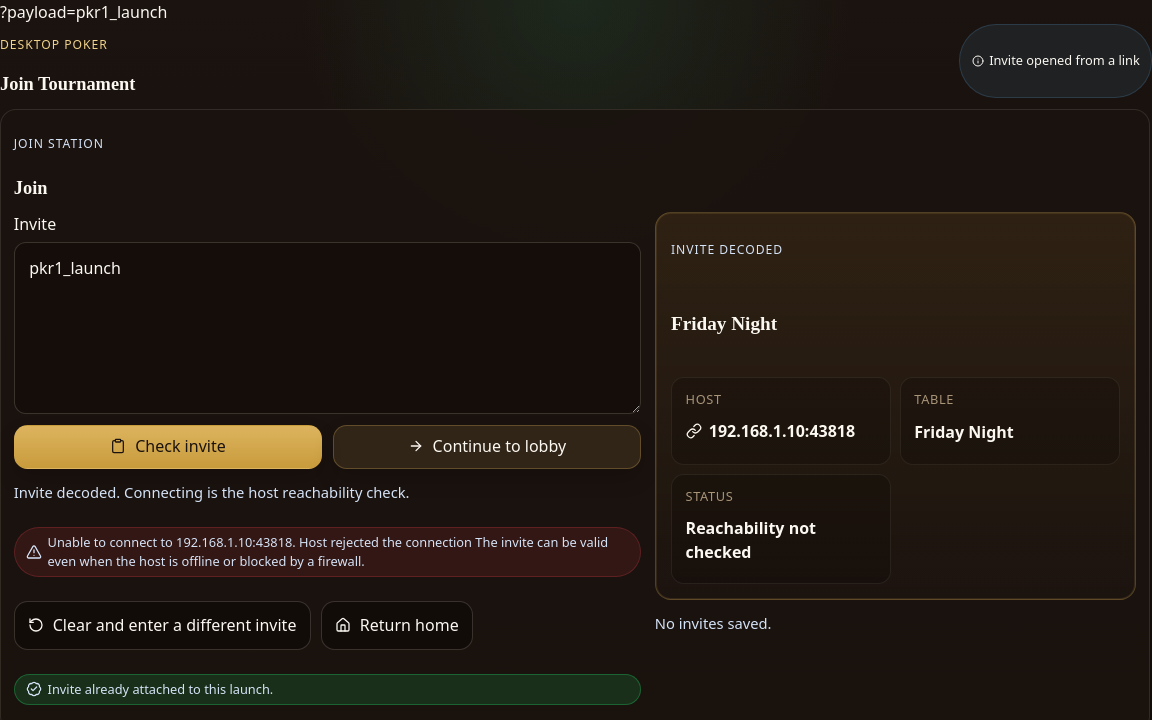
it: JoinTournamentScreen › clears query params when the user dismisses a failed deep-link join (P0.4)
Expected: the text "Host rejected the connection" is shown, [48, 533, 608, 570]
Expected: the text with test id "location-search" shows "payload=pkr1_launch", [0, 1, 167, 23]
Click the button "Clear and enter a different invite" at (162, 626), box [14, 601, 310, 650]
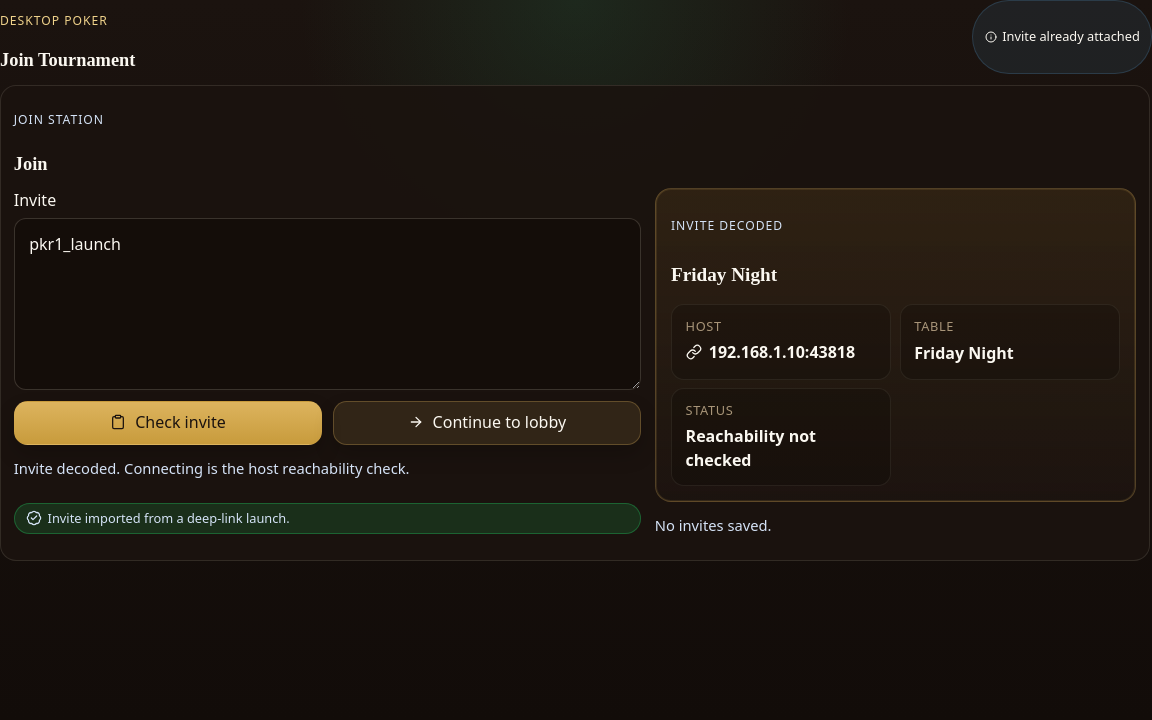
Expected: the text "Host rejected the connection" is gone
